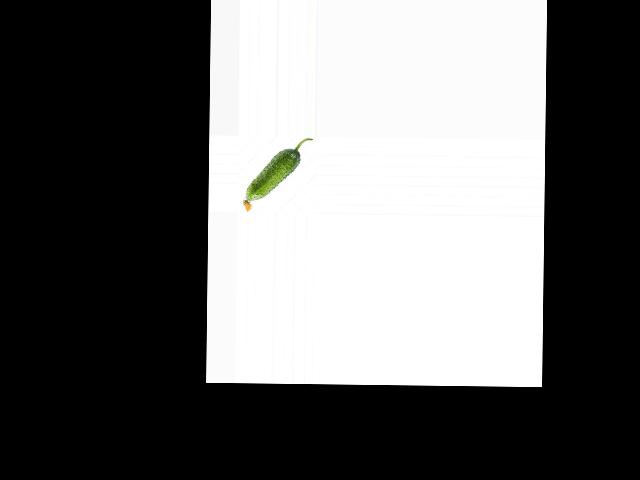cucumber: (242, 137, 312, 213)
